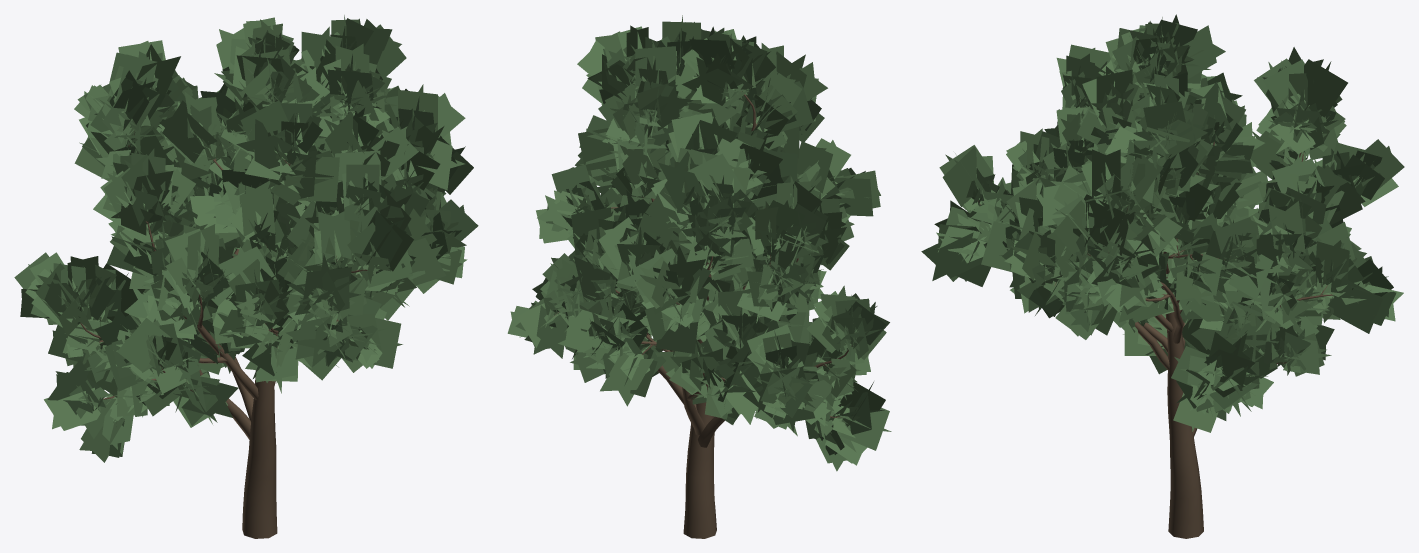
File: tree_ash_mature.glb
The picture shows the model from 3 angles, left to right: view 1: azimuth 30°, elevation 25°; view 2: azimuth 150°, elevation 25°; view 3: azimuth 270°, elevation 25°; orthographic projection. The views are drawn at different scales.
Parts seen in each view (by area): view 1: foliage, trunk; view 2: foliage, trunk; view 3: foliage, trunk.
Part boxes in pixels (box(x1,y1,x2,y2)): foliage: box(14, 15, 478, 462); trunk: box(80, 131, 374, 538); foliage: box(507, 15, 891, 471); trunk: box(553, 84, 852, 538); foliage: box(921, 14, 1404, 432); trunk: box(978, 99, 1332, 538).
Bounding box in the file's own units: 14.88 × 20 × 17.14.
